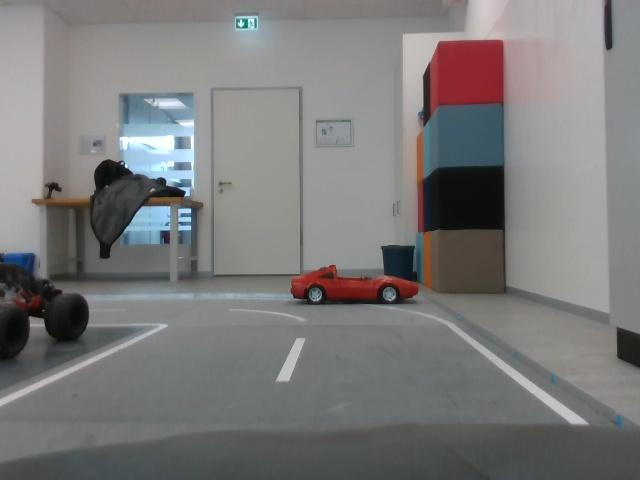car: (2, 258, 97, 369), (285, 264, 426, 311)
